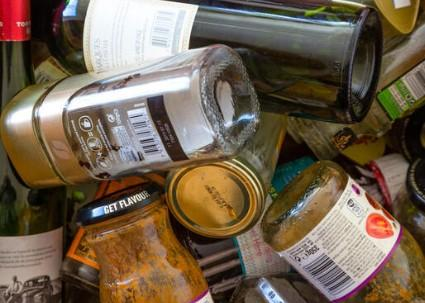glass: (55, 2, 384, 127), (3, 43, 258, 189), (262, 160, 418, 301), (0, 4, 72, 300), (286, 7, 424, 158), (76, 182, 216, 301), (162, 110, 285, 239), (230, 156, 308, 279)
